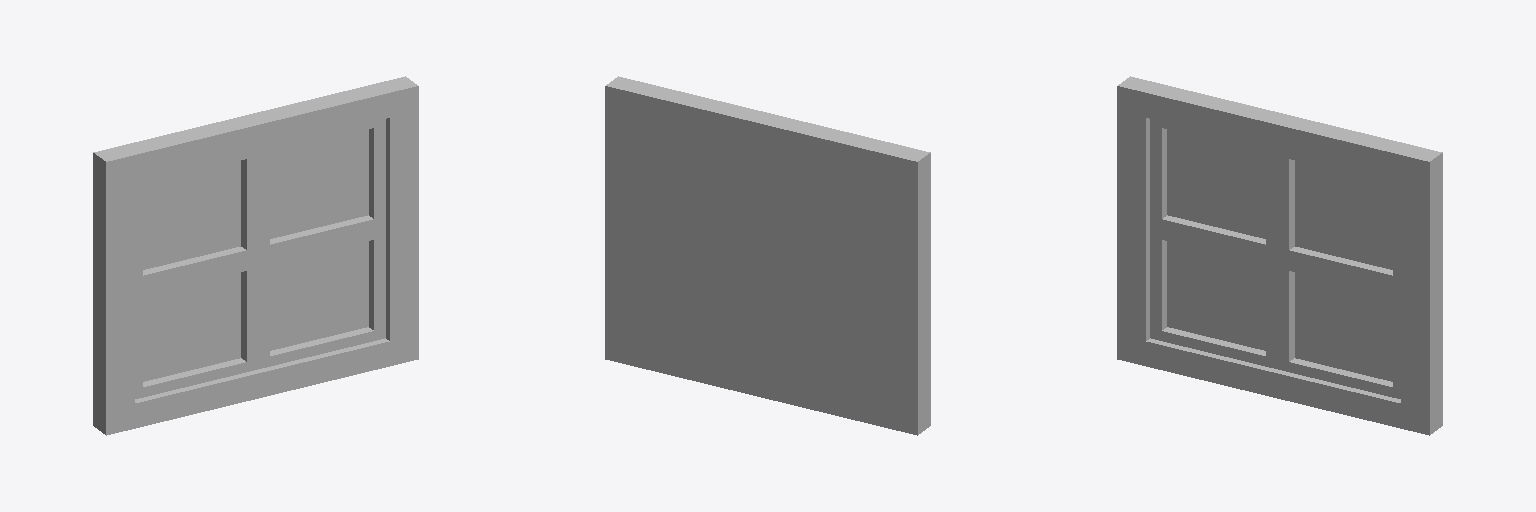
File: window.obj
3 views of the same model, side by side, from view 1: azimuth 30°, elevation 25°; view 2: azimuth 150°, elevation 25°; view 3: azimuth 330°, elevation 25° (orthographic).
Parts seen in each view (by area): view 1: pCube1; view 2: pCube1; view 3: pCube1.
Part boxes in pixels (left/top/right/bottom): pCube1: left=93, top=76, right=418, bottom=435; pCube1: left=605, top=76, right=930, bottom=435; pCube1: left=1117, top=76, right=1442, bottom=435.
Bounding box in the file's own units: 17.14 × 14.35 × 1.23.